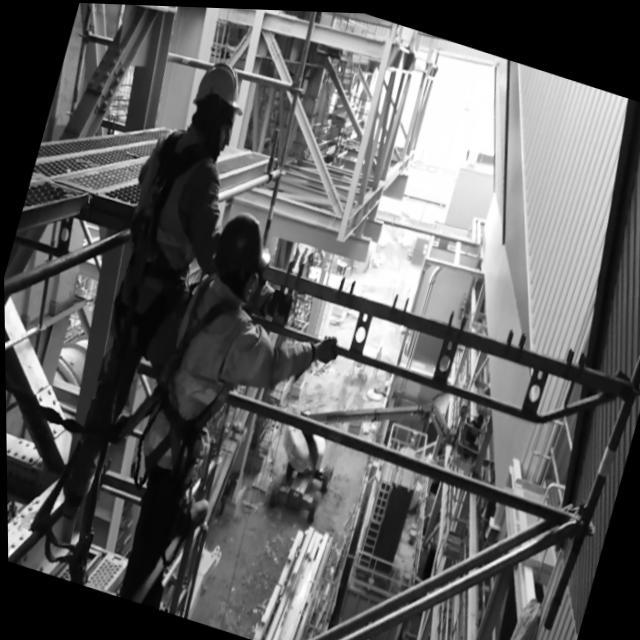belt: (95, 106, 237, 364), (119, 258, 266, 504)
